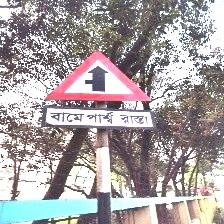Side-road-left: (42, 50, 157, 131)
